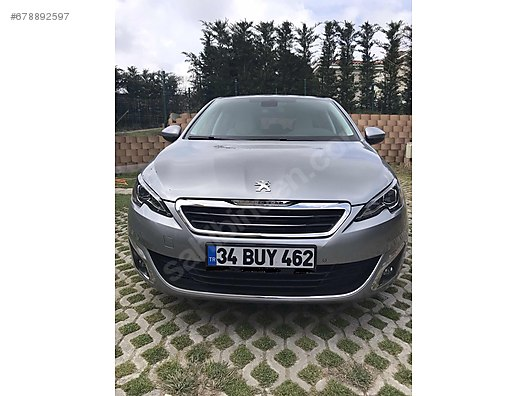peugeot: (119, 90, 410, 326)
